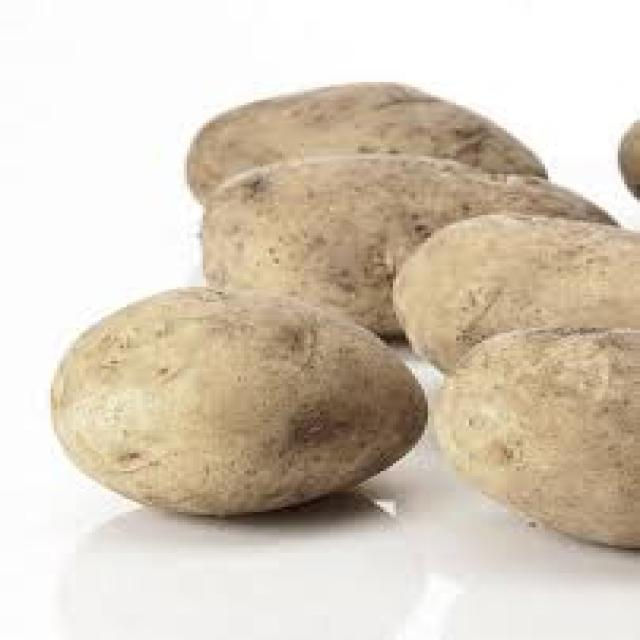Potato: (176, 97, 598, 346), (58, 266, 434, 532)
